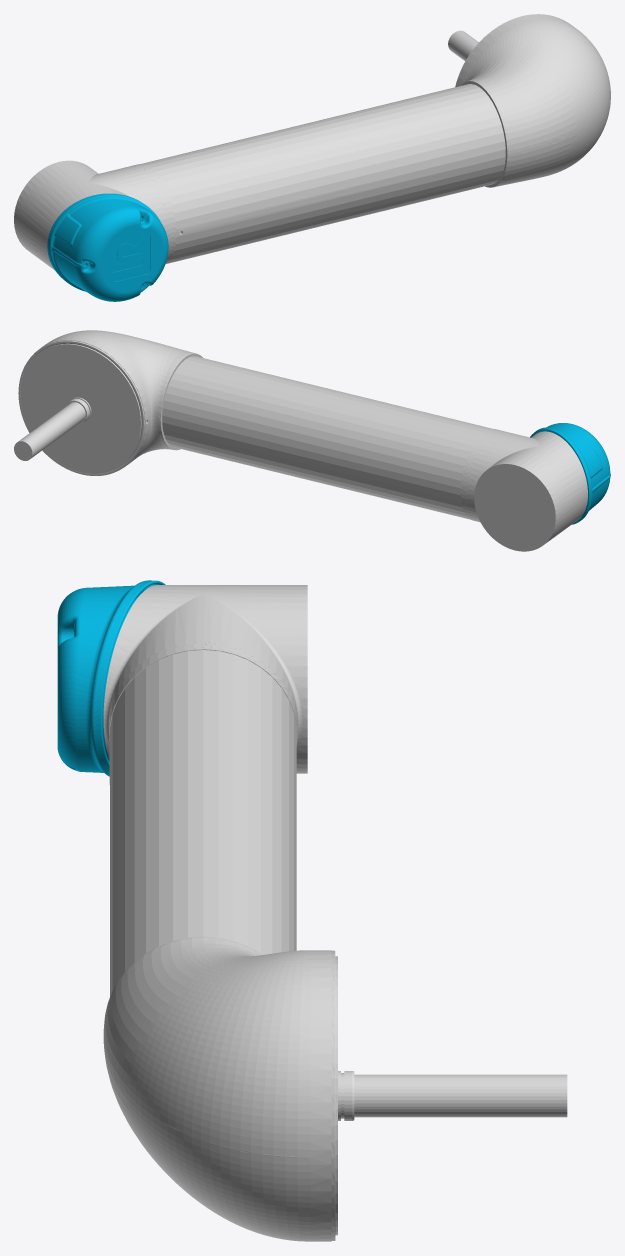
The model's file is Joint3.fbx.
3 renders of one model, top to bottom at view 1: azimuth 30°, elevation 25°; view 2: azimuth 150°, elevation 25°; view 3: azimuth 270°, elevation 25°, orthographic. The views are drawn at different scales.
Visible parts, largest first — view 1: J3 - 31106-1, J3 - 31001-1, J3 - 34111-1, J3 - 31101-1, J3 - 31362-1, J3 - 31105-1, J3 - 33115-1; view 2: J3 - 31106-1, J3 - 31362-1, J3 - 31101-1, J3 - 31001-1, J3 - 34111-1, J3 - 31105-1, J3 - 33115-1; view 3: J3 - 31001-1, J3 - 31106-1, J3 - 31101-1, J3 - 31362-1, J3 - 34111-1, J3 - 31105-1.
Part boxes in pixels (x1,y1,x2,y2): J3 - 31106-1: [141, 84, 505, 264]; J3 - 31001-1: [456, 14, 610, 187]; J3 - 34111-1: [47, 193, 168, 301]; J3 - 31101-1: [14, 160, 167, 269]; J3 - 31362-1: [448, 14, 554, 86]; J3 - 31105-1: [132, 164, 176, 263]; J3 - 33115-1: [133, 164, 174, 262]; J3 - 31106-1: [162, 356, 492, 519]; J3 - 31362-1: [14, 340, 144, 475]; J3 - 31101-1: [468, 430, 587, 551]; J3 - 31001-1: [30, 330, 202, 470]; J3 - 34111-1: [530, 423, 610, 524]; J3 - 31105-1: [460, 428, 500, 521]; J3 - 33115-1: [462, 429, 499, 521]; J3 - 31001-1: [103, 936, 331, 1241]; J3 - 31106-1: [109, 650, 296, 996]; J3 - 31101-1: [103, 585, 307, 773]; J3 - 31362-1: [331, 950, 567, 1240]; J3 - 34111-1: [57, 580, 165, 776]; J3 - 31105-1: [109, 642, 297, 745].
Size of the model in its own units: 48960 by 11600 by 20288.
